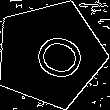O_W: (18, 25, 83, 84)
